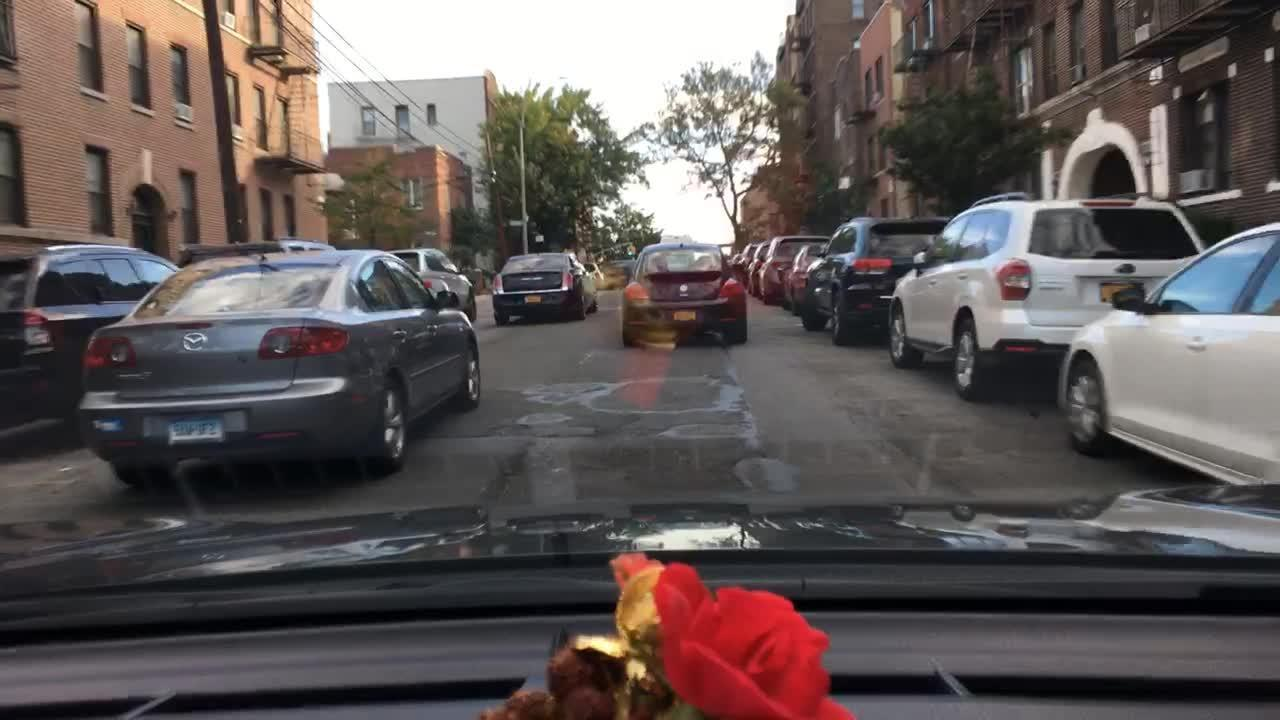Mazda: (174, 326, 212, 358)
